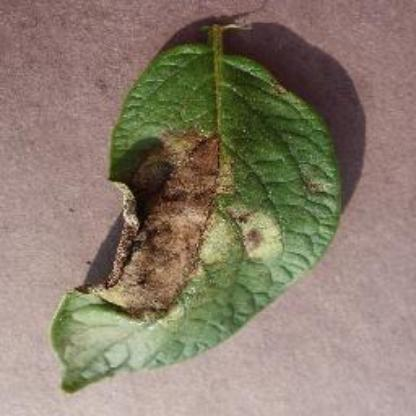Late-Blight: (44, 11, 366, 391)
